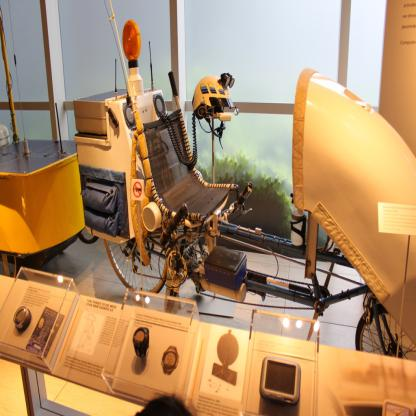Helmet: (190, 73, 233, 130)
